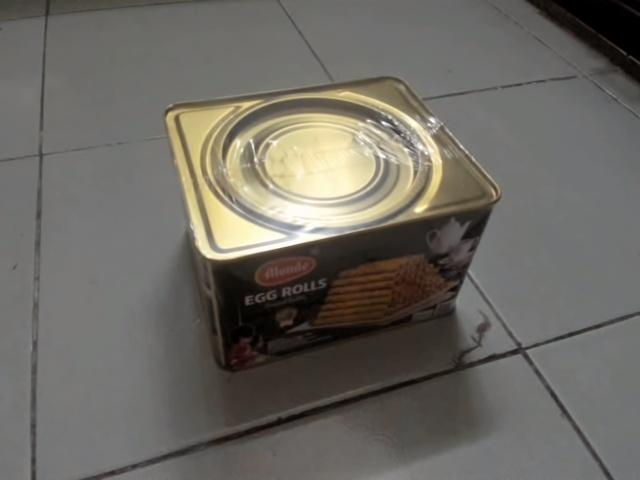anorganik: (159, 69, 508, 377)
